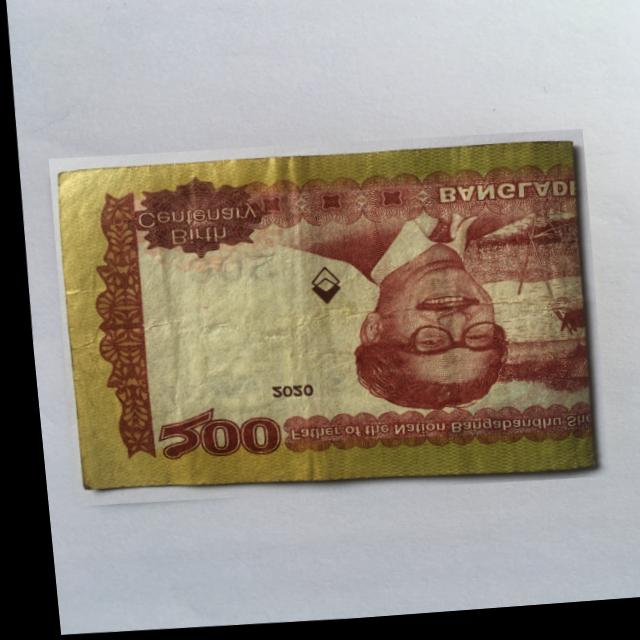Taka: (39, 128, 605, 515)
